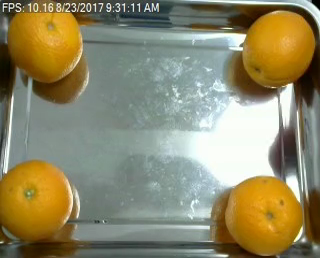Orange: (6, 1, 83, 83), (226, 175, 304, 255), (241, 9, 316, 86), (1, 160, 73, 240)
